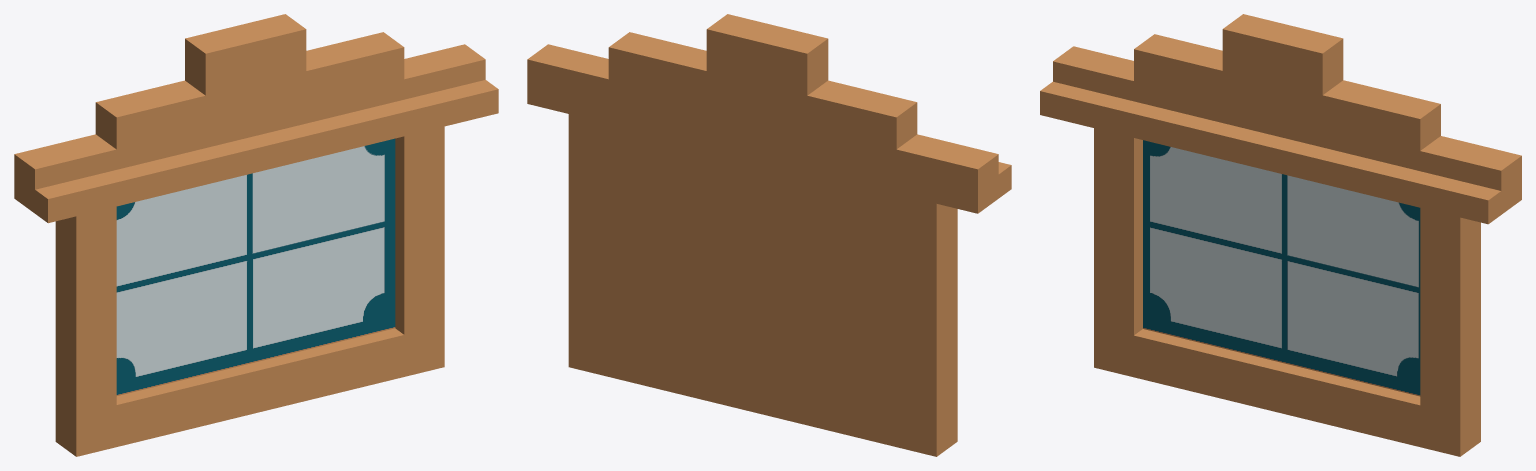
File: Window.fbx
3 views of the same model, side by side, from view 1: azimuth 30°, elevation 25°; view 2: azimuth 150°, elevation 25°; view 3: azimuth 330°, elevation 25° (orthographic).
Visible parts, largest first — view 1: Window; view 2: Window; view 3: Window.
Boxes of the visible parts, bbox=[...] form: Window: bbox=[14, 14, 498, 456]; Window: bbox=[527, 14, 1011, 456]; Window: bbox=[1040, 14, 1521, 456].
Bounding box in the file's own units: 0.3385 × 0.2668 × 0.0438.
